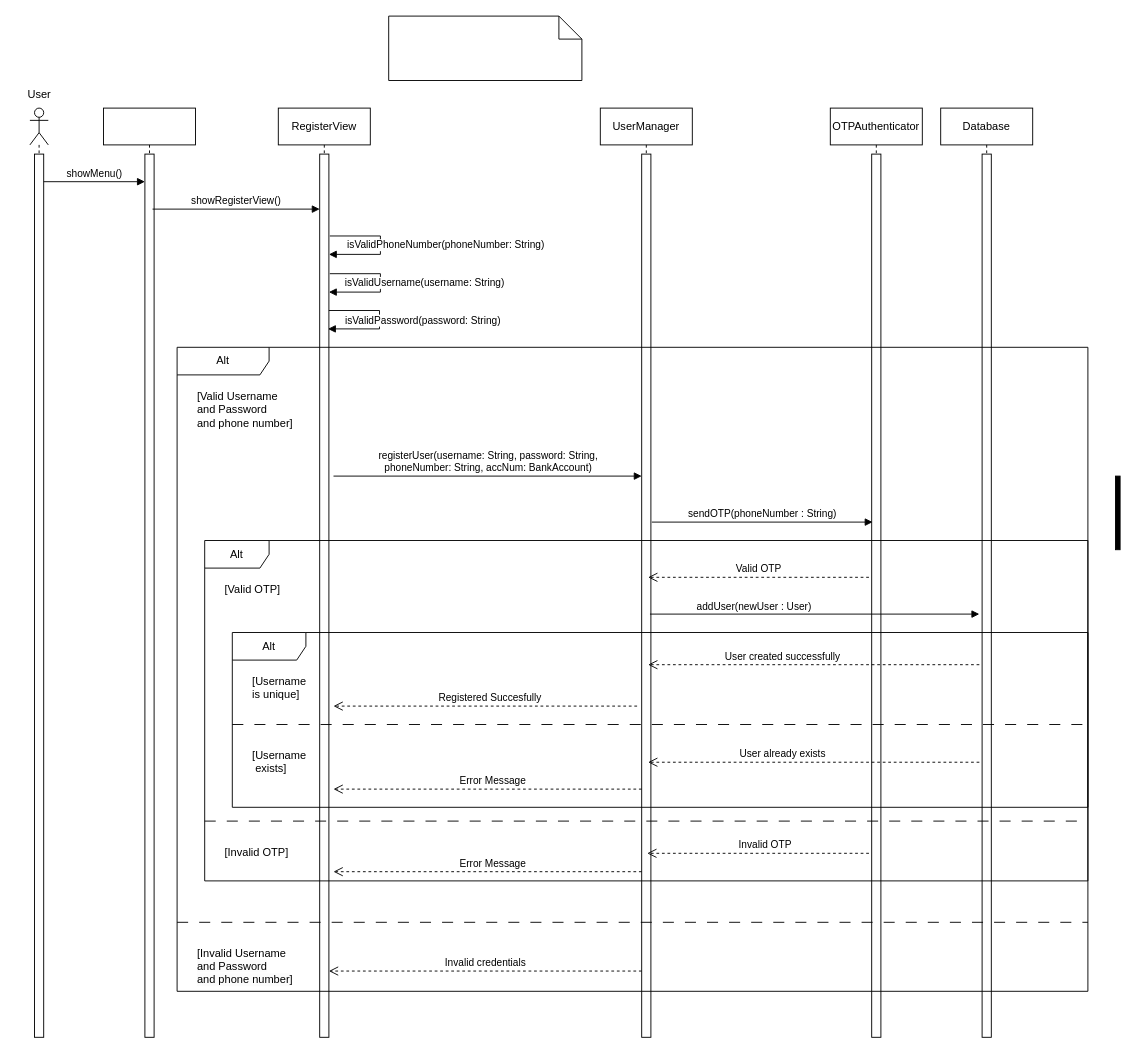
Image size: 1136x1053. Some labels were removed from this diagram. Each missing label, with the box of its shape:
Main: (103, 107, 196, 1037)
Registering as a Bank User: (388, 15, 582, 80)
